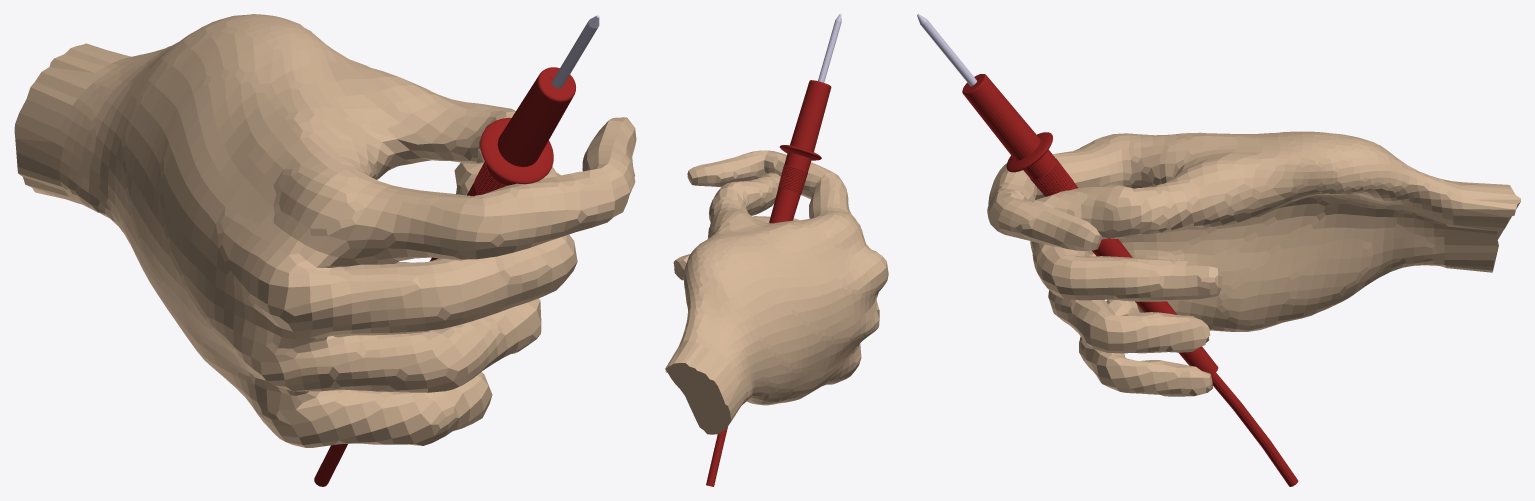
The model's file is hand-with-multimeter-red.fbx.
3 views of the same model, side by side, from view 1: azimuth 30°, elevation 25°; view 2: azimuth 150°, elevation 25°; view 3: azimuth 270°, elevation 25° (orthographic). The views are drawn at different scales.
Visible parts, largest first — view 1: Object03.006, Tube002.001; view 2: Object03.006, Tube002.001; view 3: Object03.006, Tube002.001.
Boxes of the visible parts, x1,y1,x2,y2 form: Object03.006: [14, 14, 636, 447]; Tube002.001: [314, 15, 599, 486]; Object03.006: [665, 150, 888, 434]; Tube002.001: [706, 14, 841, 486]; Object03.006: [987, 131, 1520, 396]; Tube002.001: [917, 14, 1298, 486].
Size of the model in its own units: 353 by 606 by 691.
